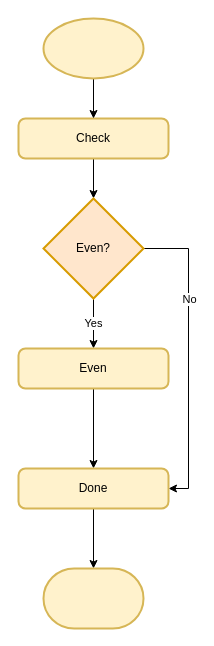
The diagram is 214 pixels wide and 646 high, and some of its shapes have lost their labels. Here are the shapes that lost their labels. From the top down, the centre of each, then its label:
At point 93,48: "Start".
At point 93,598: "End".
